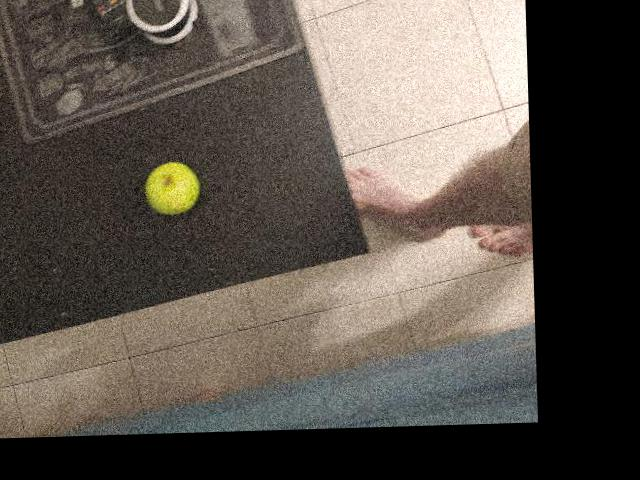apple: (90, 82, 163, 203)
